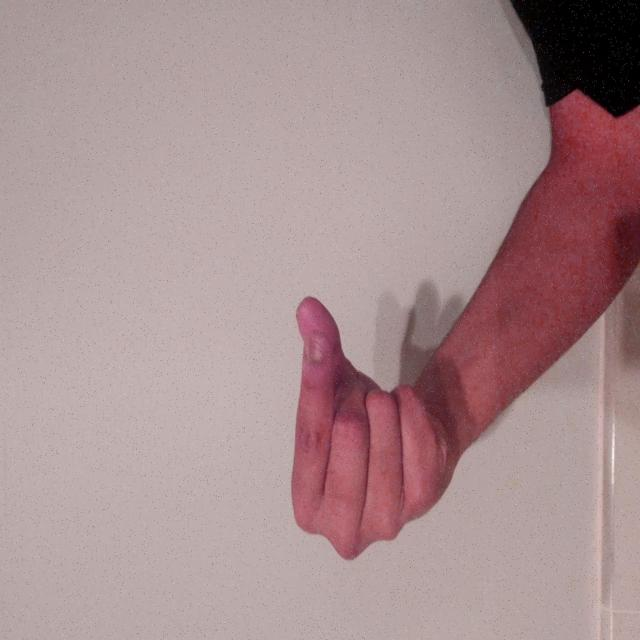G: (54, 384, 265, 614)
